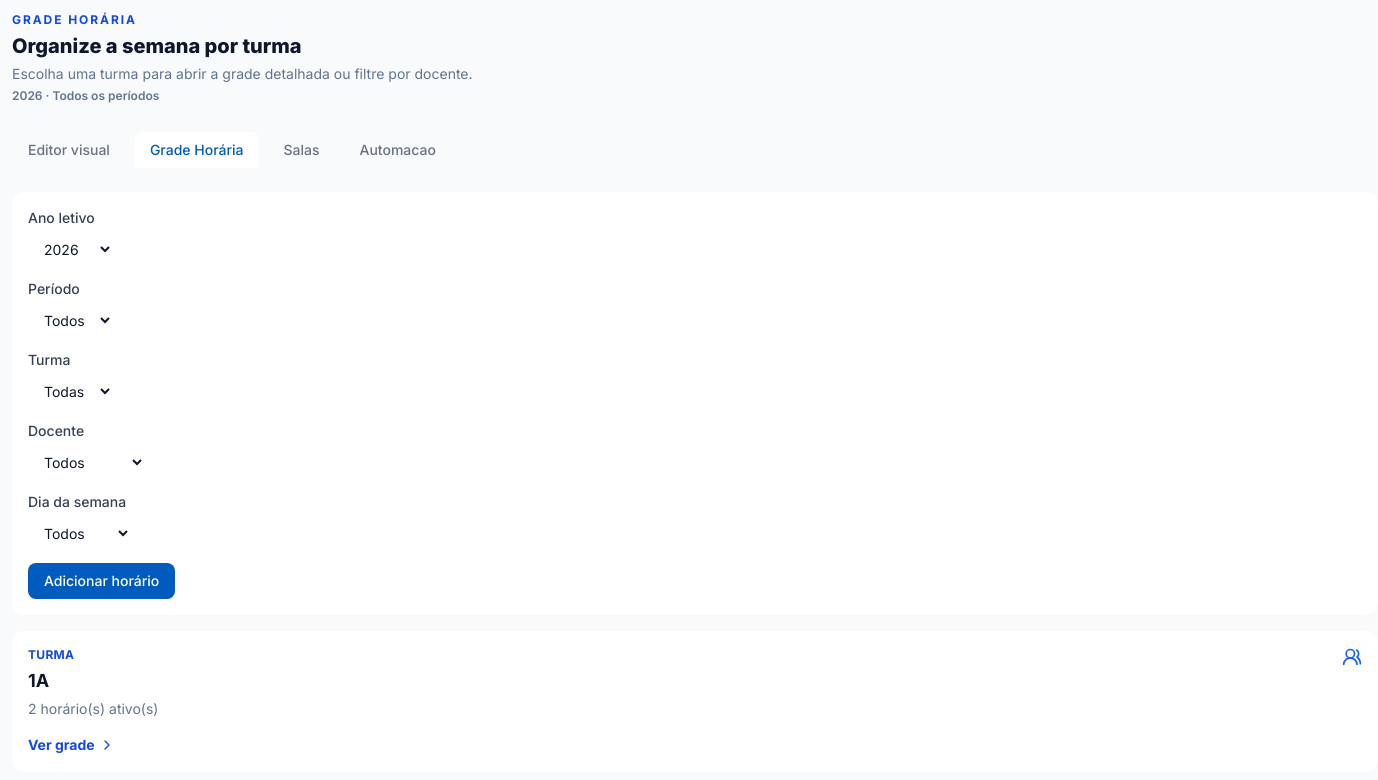
Scenario: TimetableTab › alterna para visualizacao de salas
Click the tab "Salas". click: (301, 150)
box: x1=267 y1=132 x2=335 y2=168
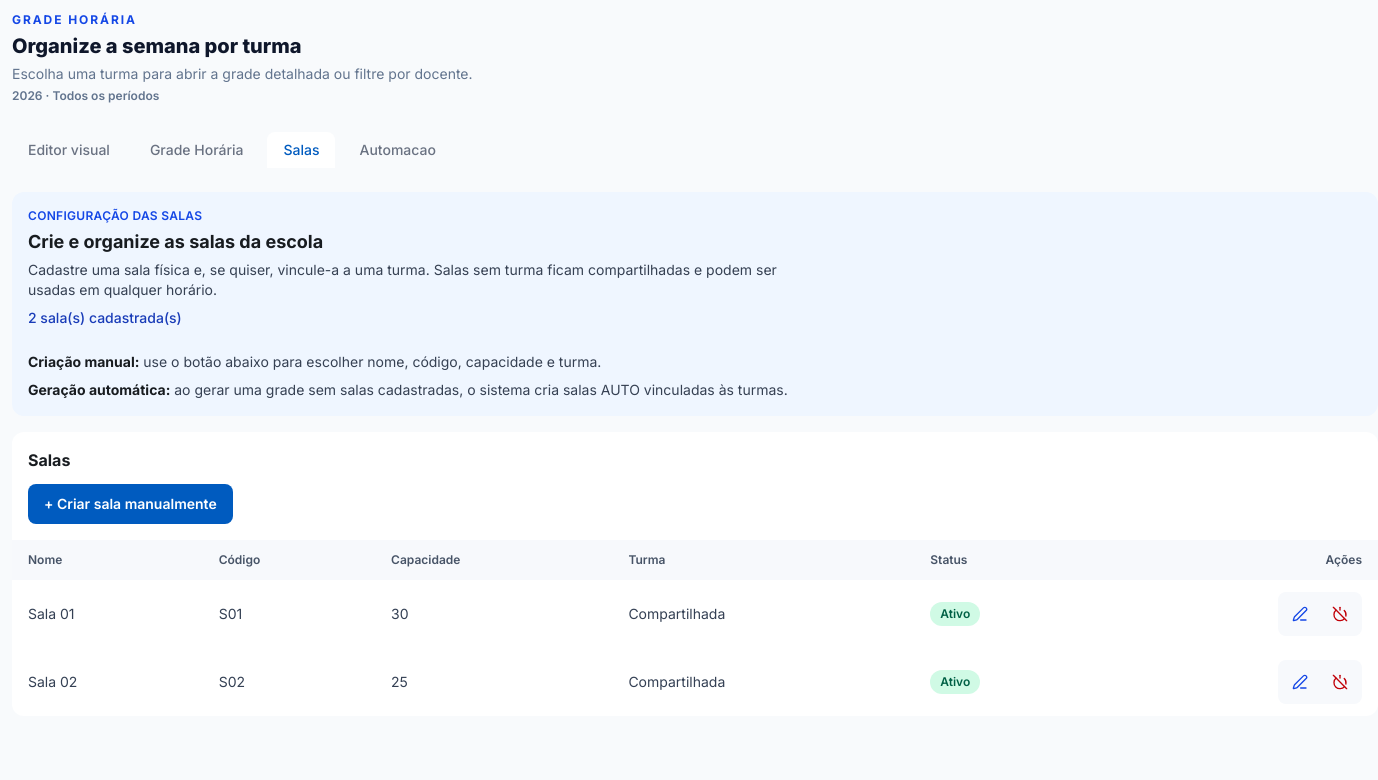
Expected: the heading "Crie e organize as salas da escola" is shown, x1=28 y1=231 x2=323 y2=252
Expected: the text "Geração automática:" is shown, x1=28 y1=381 x2=170 y2=398
Expected: the text "Sala 01" is shown, x1=12 y1=580 x2=203 y2=648
